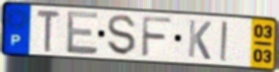E: (65, 9, 100, 56)
F: (139, 14, 174, 59)
I: (219, 19, 229, 63)
K: (186, 18, 213, 62)
S: (106, 14, 138, 58)
T: (35, 8, 62, 54)
